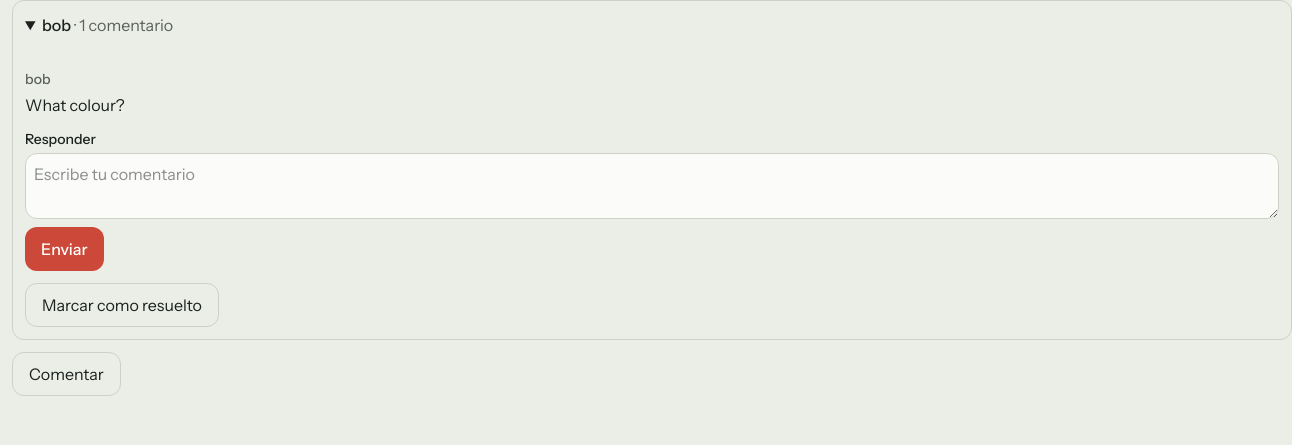
Thread › shows a refused resolve instead of dropping it
The width and height of the screenshot is (1292, 445).
Click the button "Marcar como resuelto" at (122, 305), box top-left (25, 283), bottom-right (219, 327)
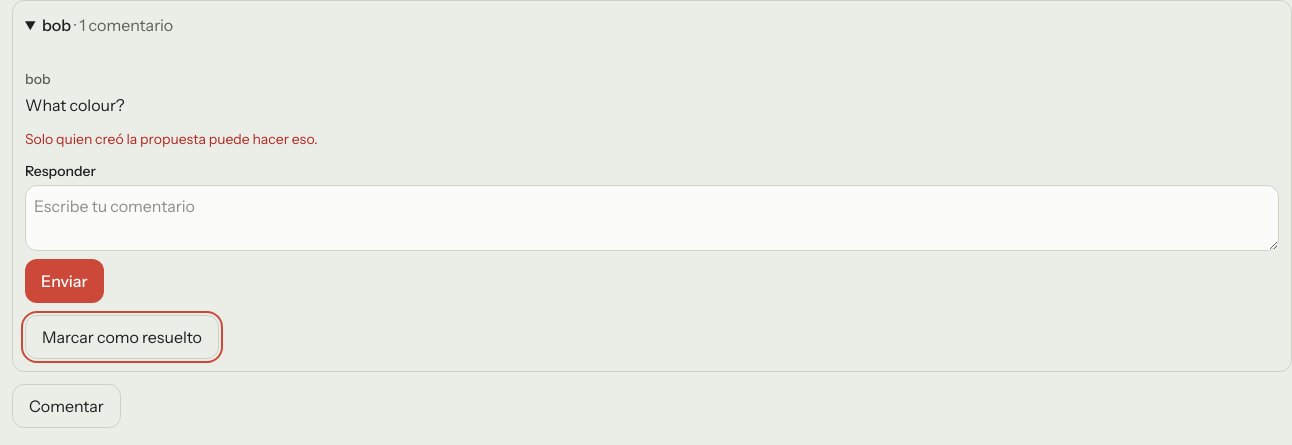
Result: the message reads "Solo quien creó la propuesta puede hacer eso." at top-left (25, 130), bottom-right (318, 148)
